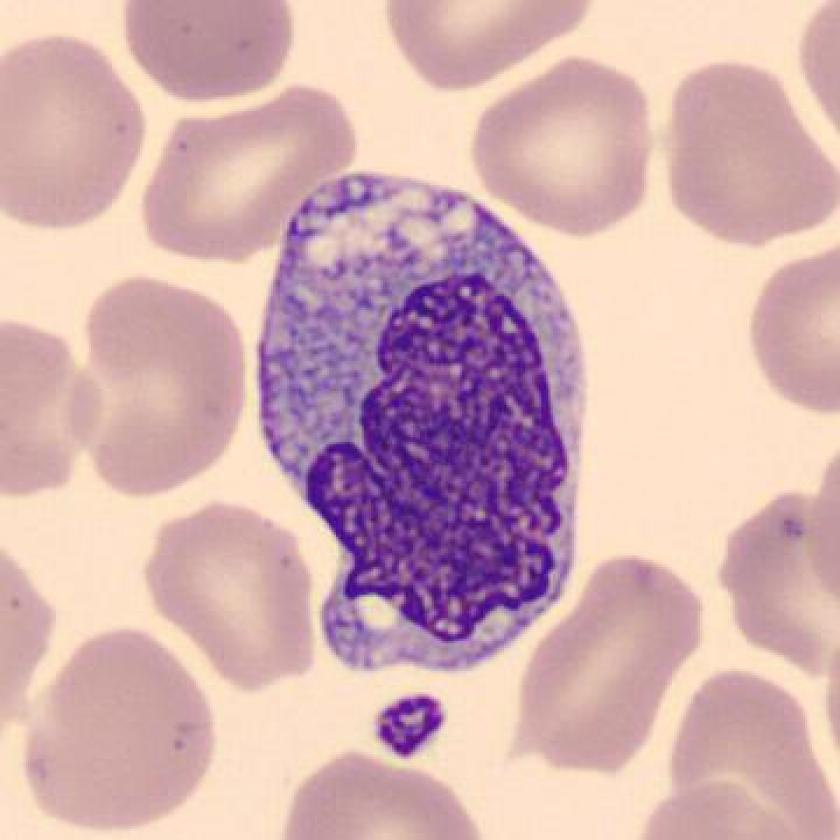monocyte: (223, 163, 617, 686)
